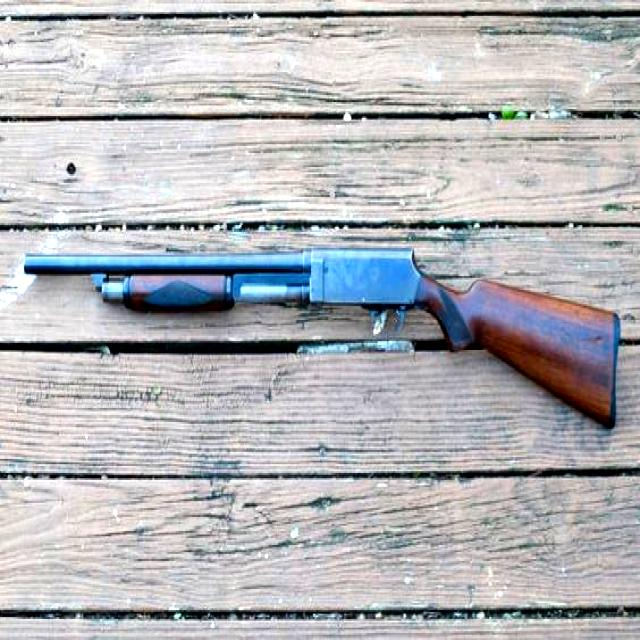shotgun: (4, 230, 640, 473)
